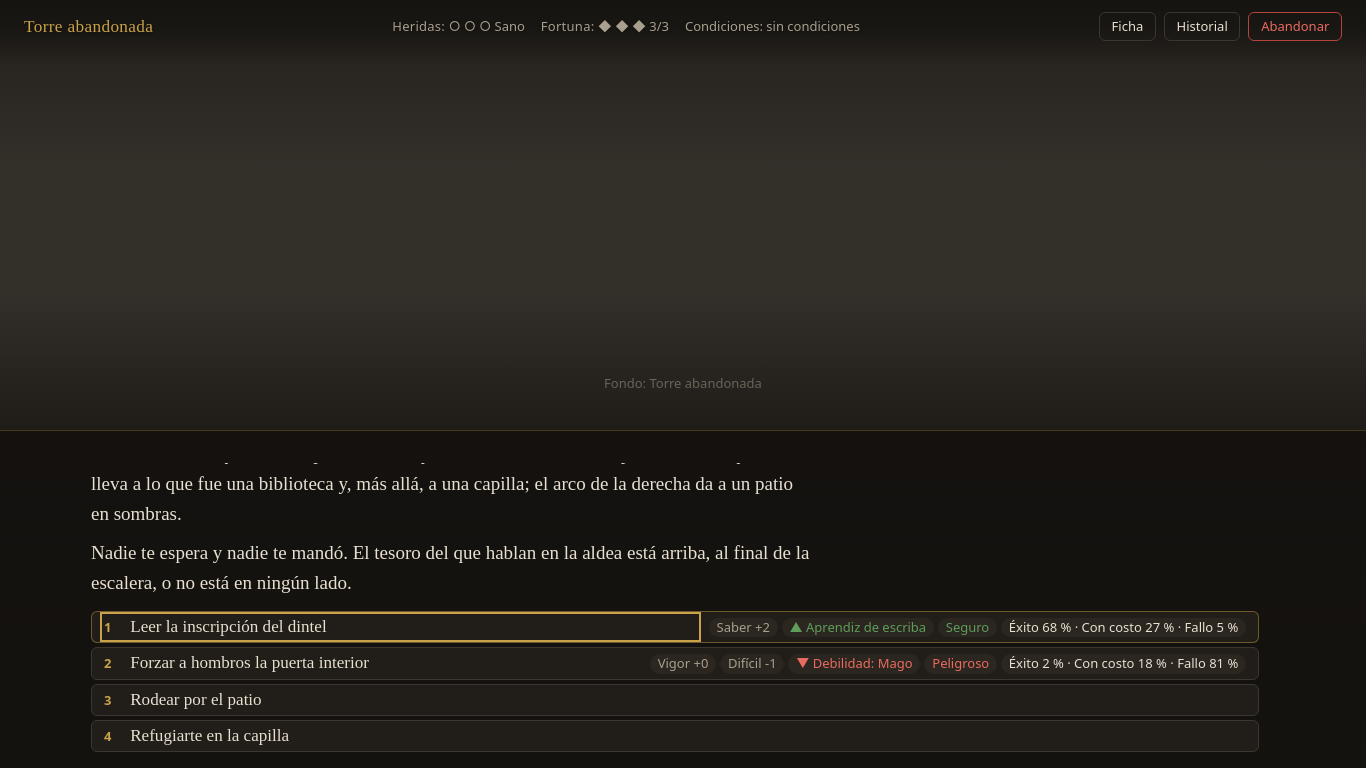
Test: flujo de la rebanada vertical › una opción con tirada muestra el panel, persiste run.pending y Continuar consolida
(page scrolled)
Check: the text "Nadie te espera y nadie te mandó. El tesoro del que hablan en la aldea está arriba, al final de la escalera, o no está e" is shown, box [91,542,810,593]
Step 1. Click the button with test id "opcion-leer_inscripcion" → x=228, y=627, box [104,616,697,638]
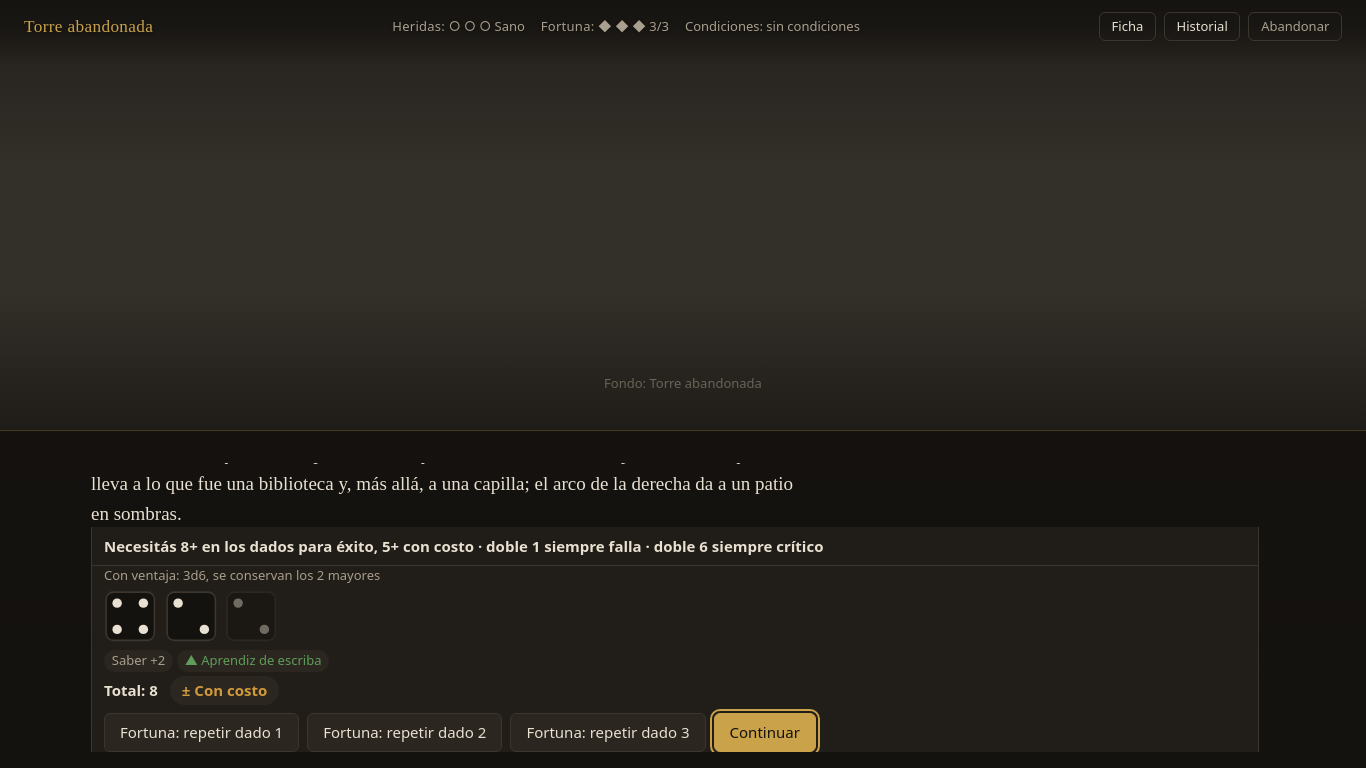
Check: the text "8" is shown, box [149,680,158,700]
Check: the button with test id "opcion-leer_inscripcion" is gone
Check: the button "Abandonar" is disabled, box [1248,12,1342,41]
Step 2. Click the button "Continuar" → x=765, y=733, box [714,713,816,752]
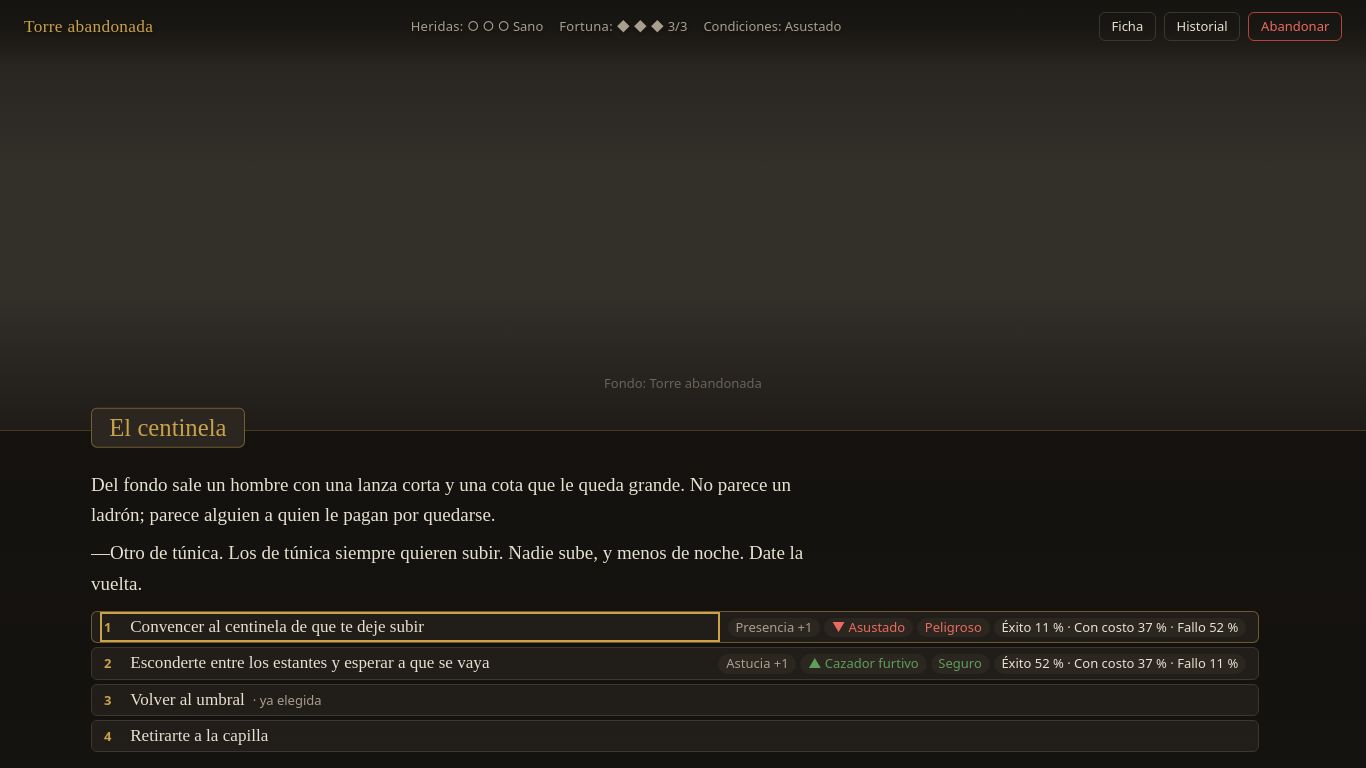
Check: the button "Abandonar" is enabled, box [1248,12,1342,41]
